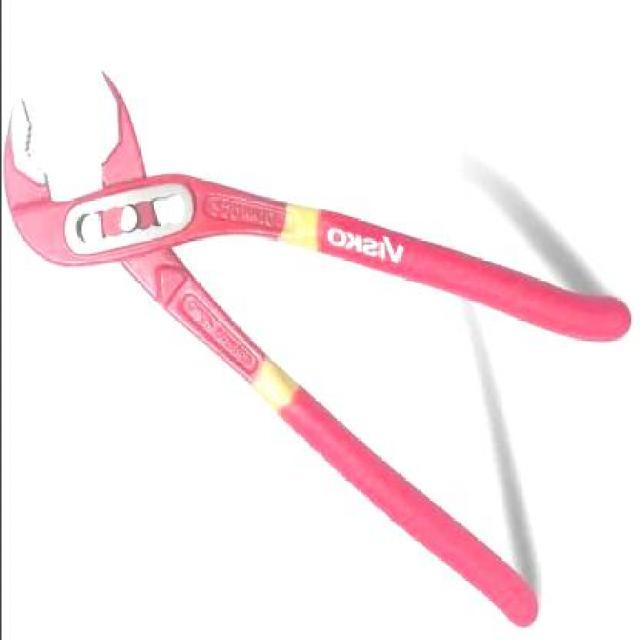pliers: (1, 64, 628, 627)
